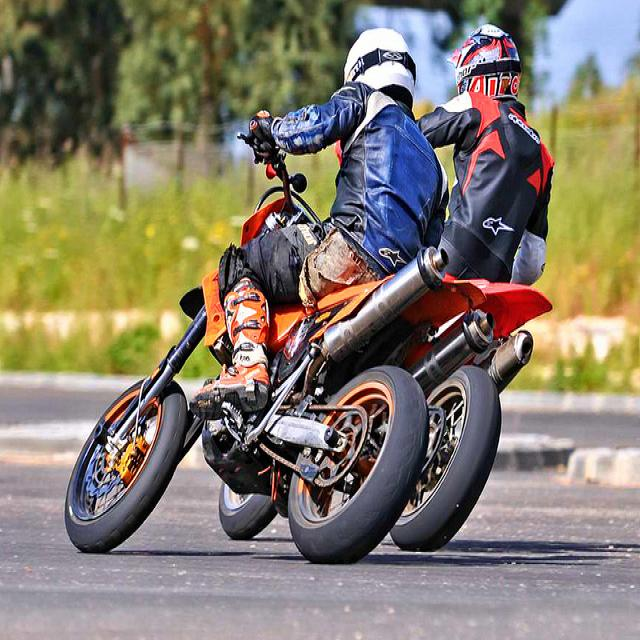motor: (67, 245, 455, 568), (389, 276, 549, 555)
